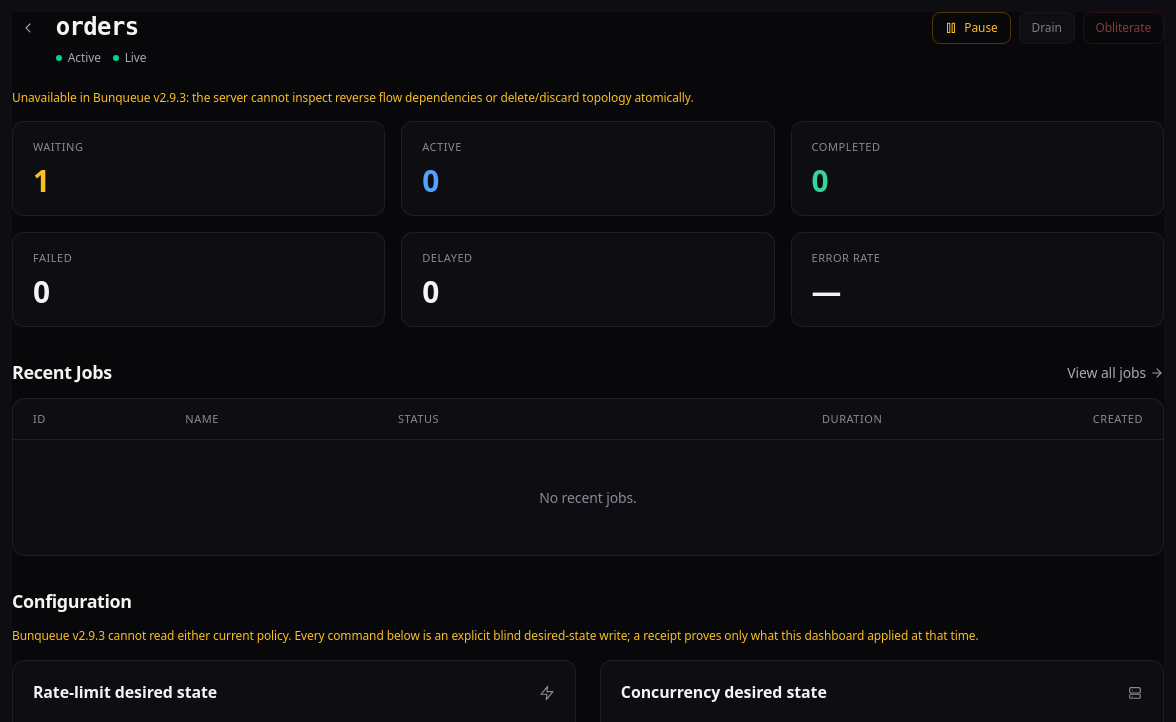
Test: classic QueueDetail mutation safety › rejects a malformed mutation ACK instead of reporting success
The image size is (1176, 722).
Click the button "Pause".
click(971, 28)  # box [932,12,1011,44]
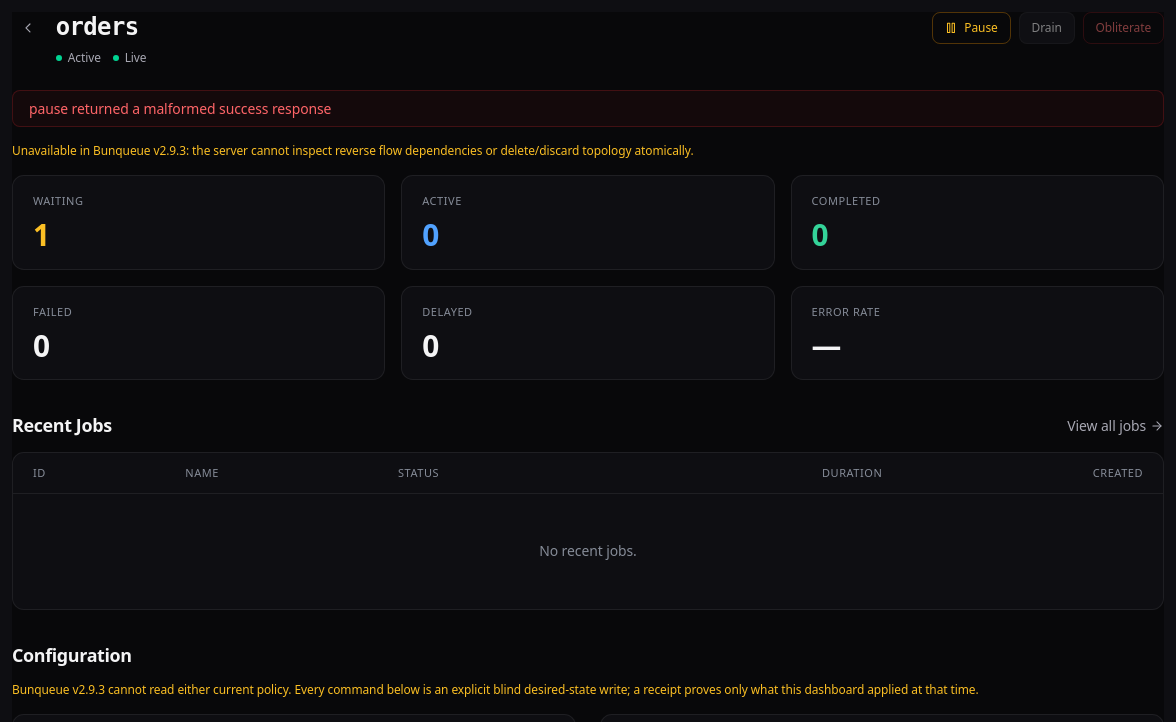
Expected: the text "pause returned a malformed success response" is shown, [12,90,1164,127]
